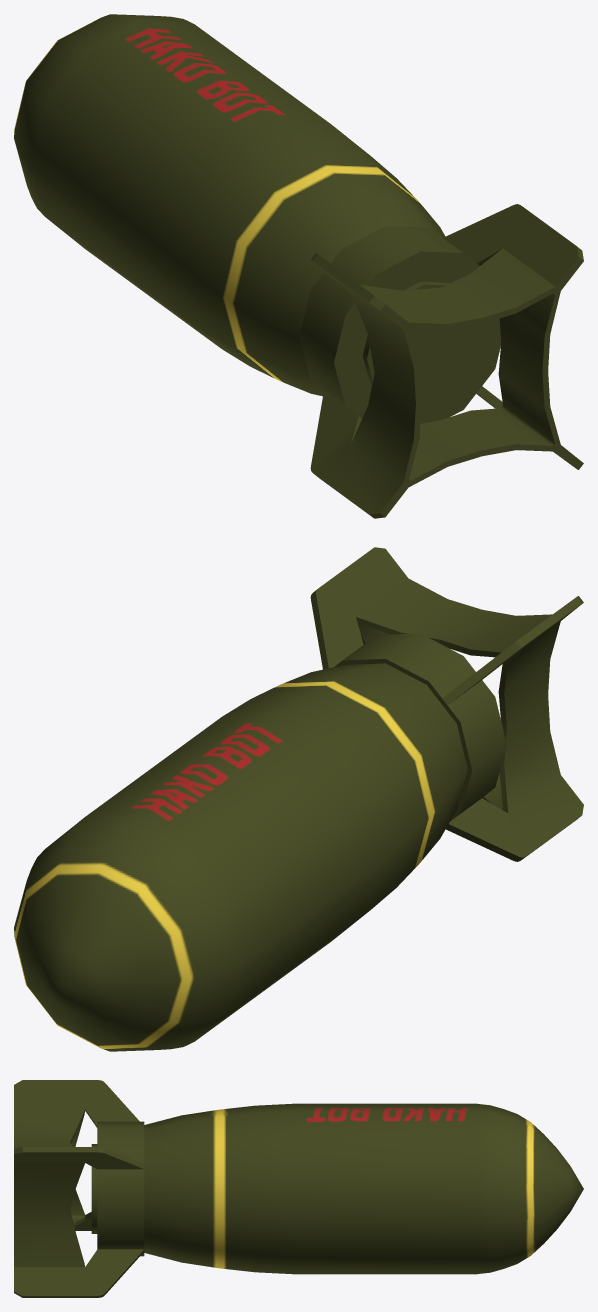
File: bakudan_2.FBX
3 views of the same model, one above another, from view 1: azimuth 30°, elevation 25°; view 2: azimuth 150°, elevation 25°; view 3: azimuth 270°, elevation 25° (orthographic). The views are drawn at different scales.
Visible parts, largest first — view 1: dakudan; view 2: dakudan; view 3: dakudan.
Boxes of the visible parts, x1,y1,x2,y2 form: dakudan: [14, 14, 583, 518]; dakudan: [14, 547, 583, 1051]; dakudan: [14, 1080, 583, 1297].
Bounding box in the file's own units: 60 × 60 × 200.
Materials: 1 (1 with a texture image).
